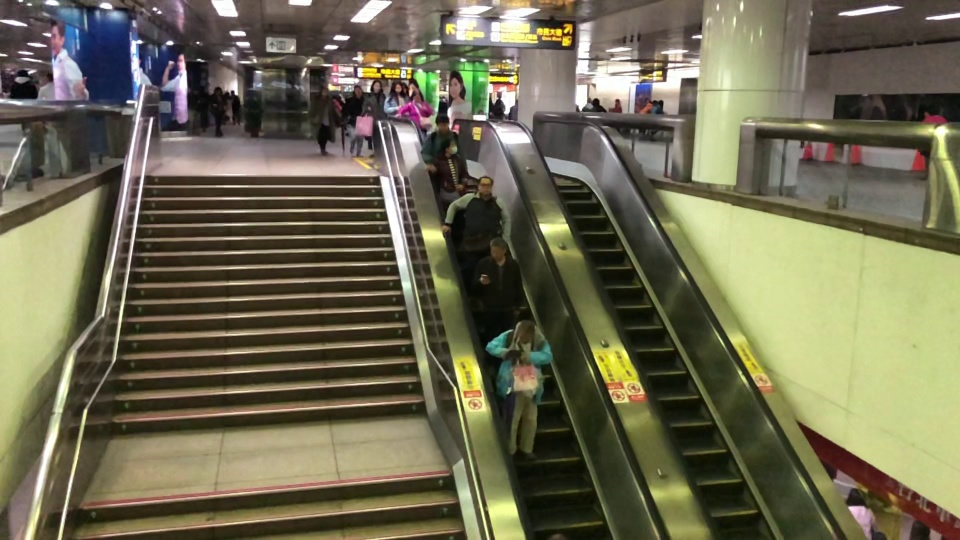person_head: (488, 235, 508, 261), (516, 319, 535, 346), (477, 175, 495, 196), (439, 137, 458, 155), (434, 113, 450, 134), (411, 89, 424, 103), (370, 80, 382, 93), (391, 81, 403, 94), (352, 83, 363, 97), (16, 68, 29, 78), (43, 72, 53, 85), (320, 85, 329, 96), (214, 85, 222, 95), (592, 97, 599, 106), (586, 96, 592, 103)
person_vbox: (485, 320, 553, 461), (440, 175, 511, 275), (471, 236, 523, 337), (425, 138, 468, 215), (420, 114, 460, 164), (309, 85, 336, 156), (395, 89, 434, 138), (341, 84, 367, 157), (361, 80, 387, 129), (384, 79, 410, 118), (209, 86, 228, 137), (9, 69, 38, 99), (37, 71, 57, 101), (582, 95, 597, 112), (592, 96, 606, 112)
